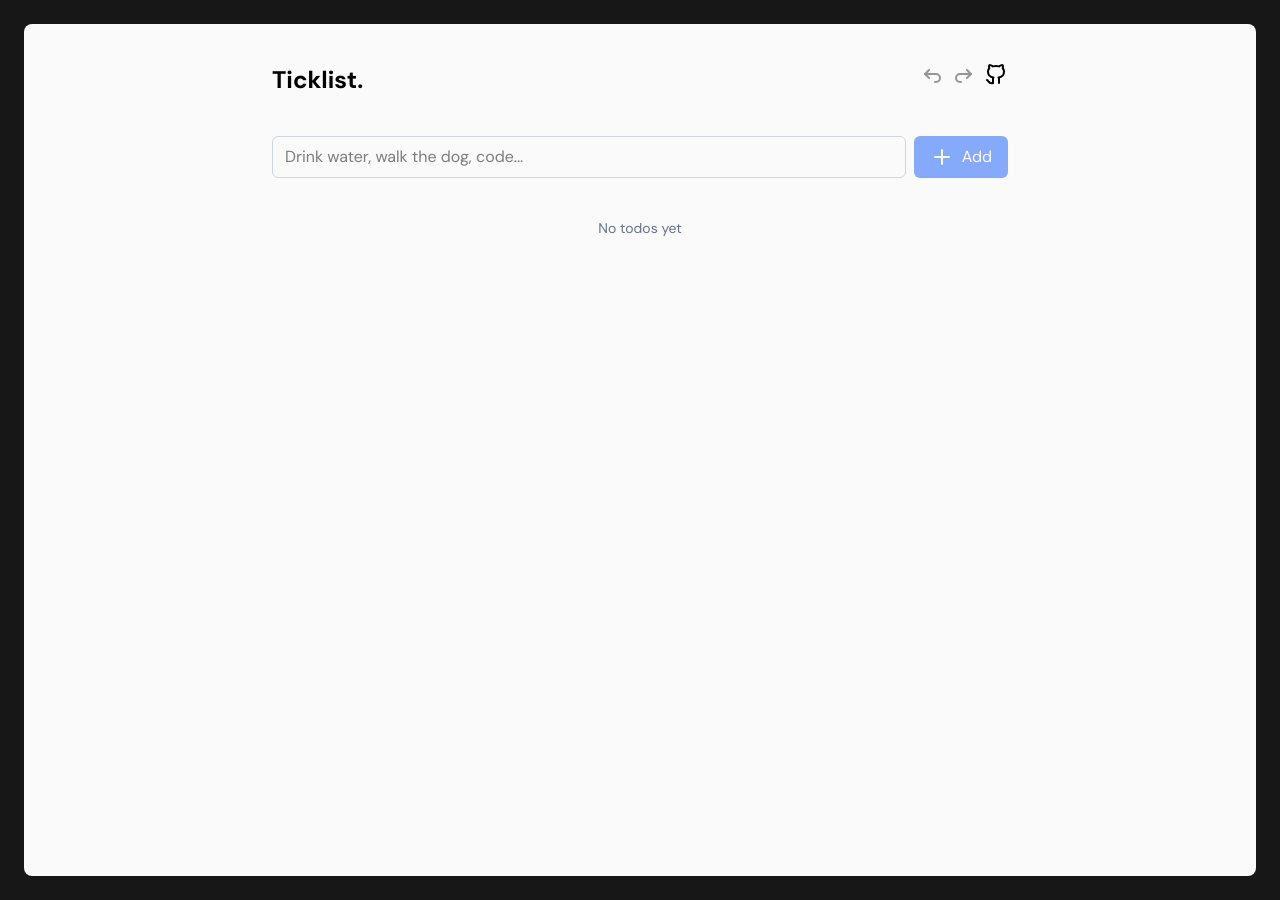
Test: App › deletes a todo
The image size is (1280, 900).
Type "Delete Task" into the field with placeholder "Drink water, walk the dog, code...". click: (589, 157)
box: [272,136,906,178]
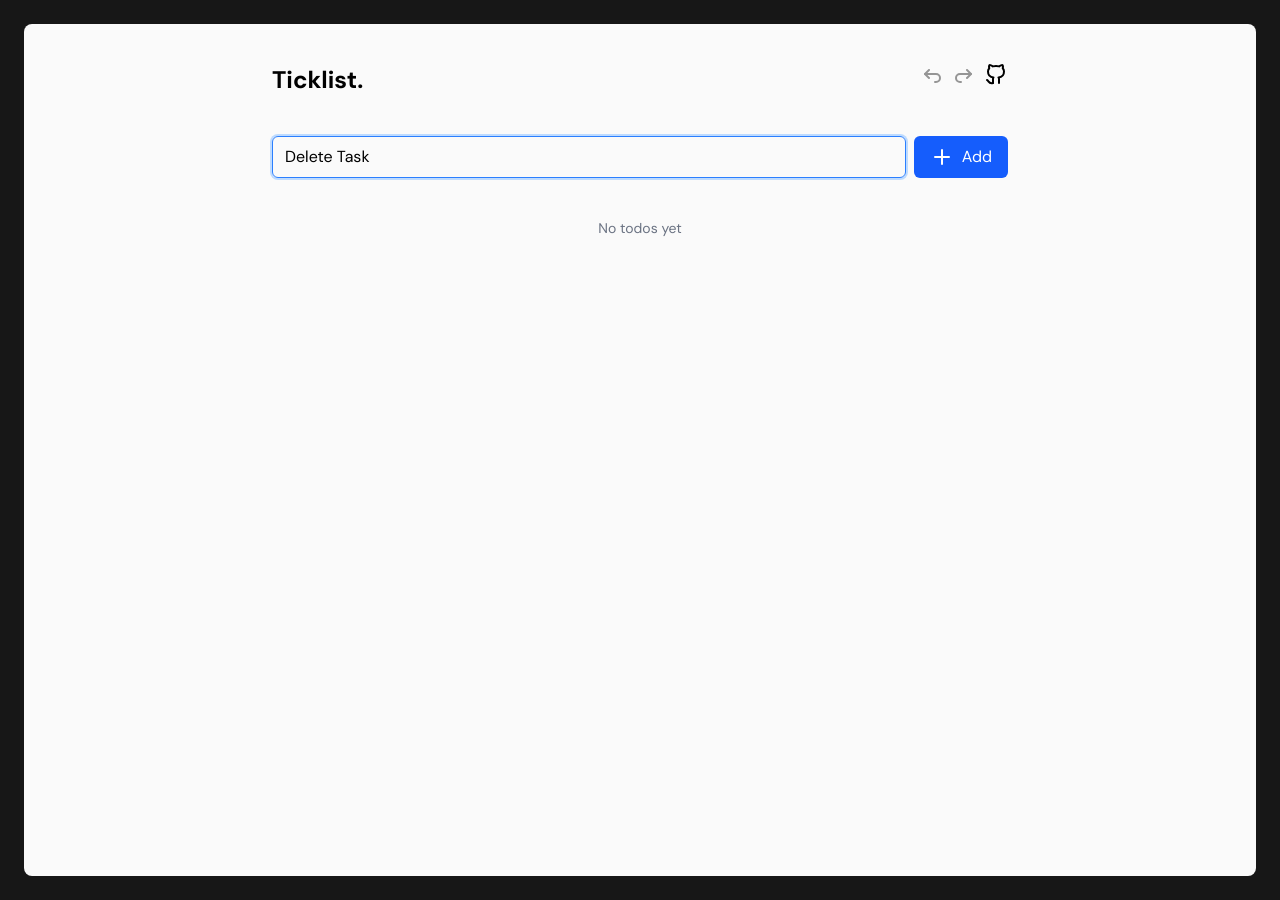
Click the button "Add". click: (961, 157)
box: [914,136,1008,178]
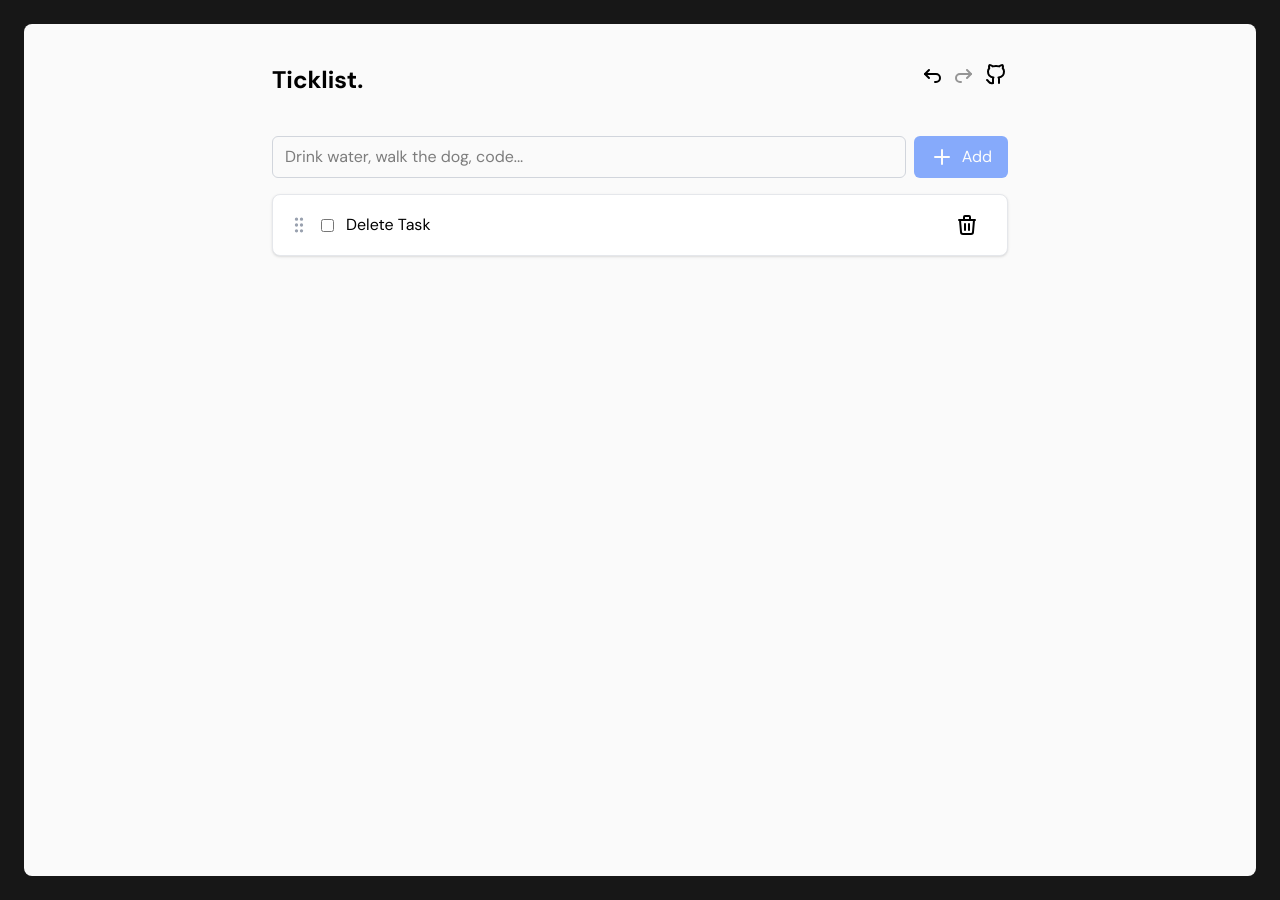
Click the button named "delete". click: (967, 225)
box: [943,207,991,243]
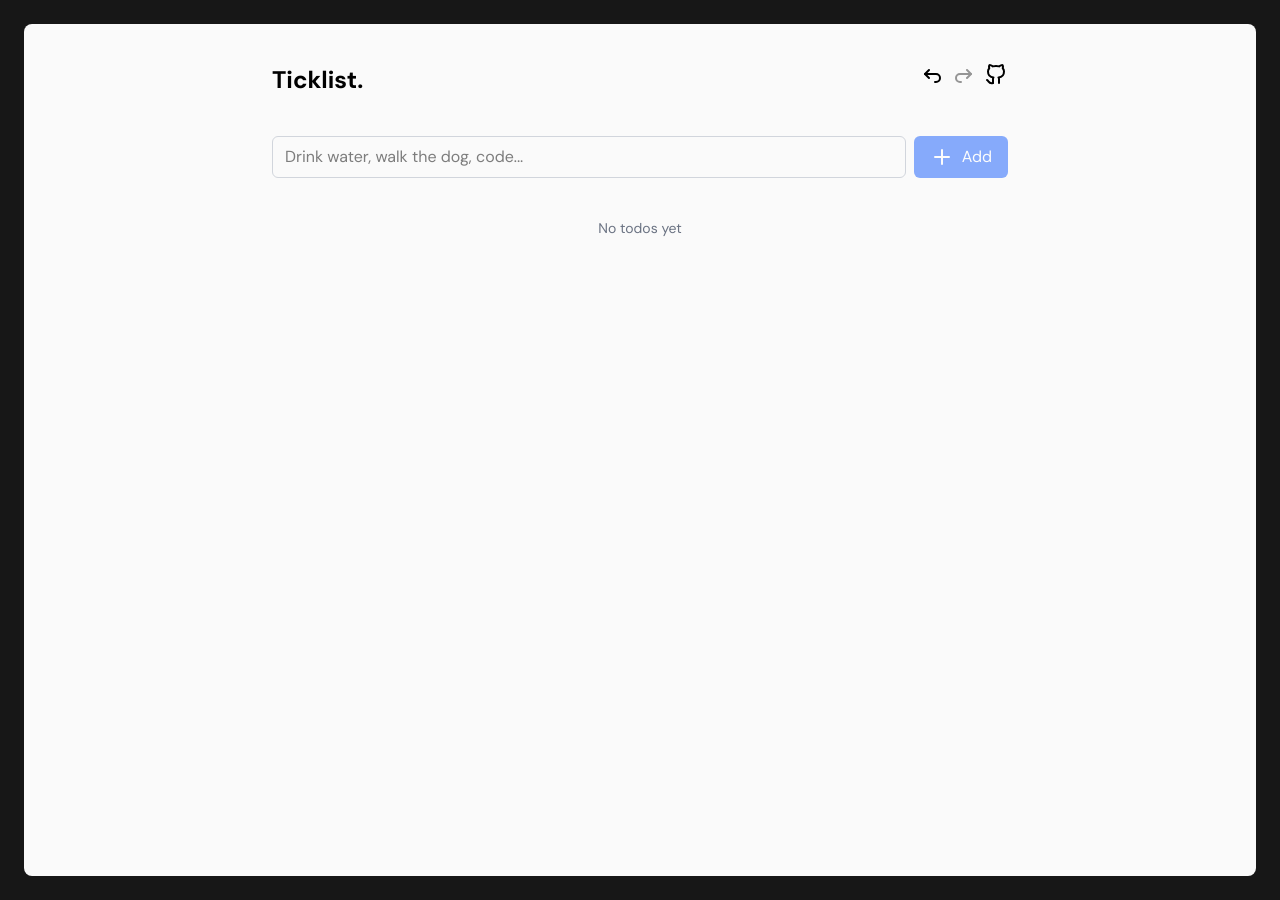
Check: the text "Delete Task" is gone
